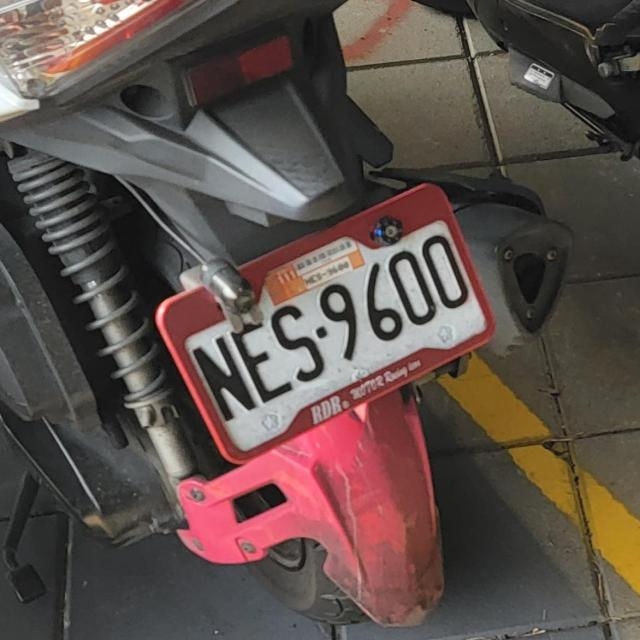W: (153, 200, 507, 463)
